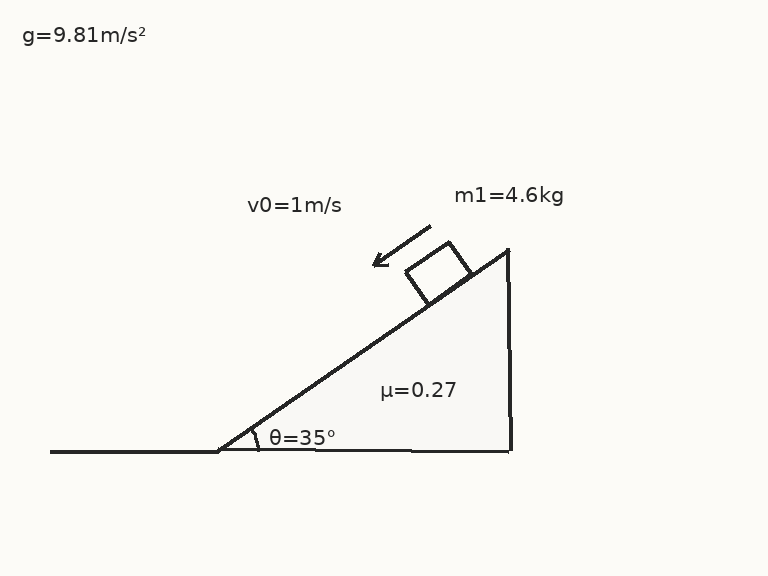block: (403, 240, 473, 306)
ramp: (216, 246, 510, 453)
